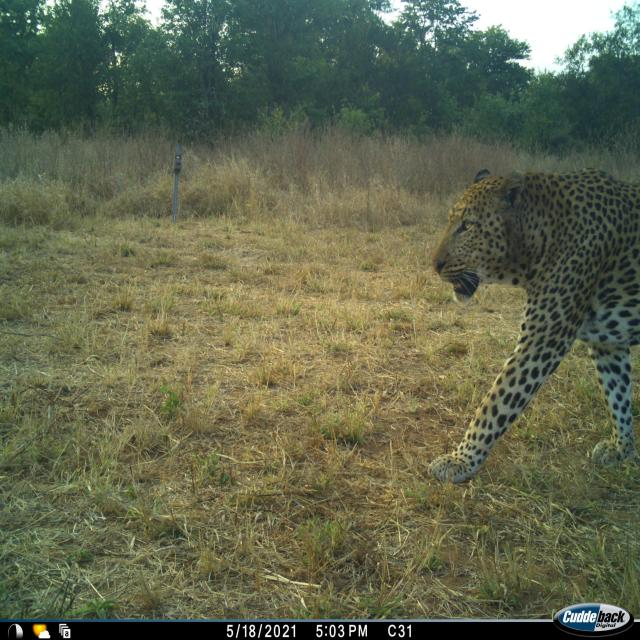Leopard: (400, 151, 640, 512)
